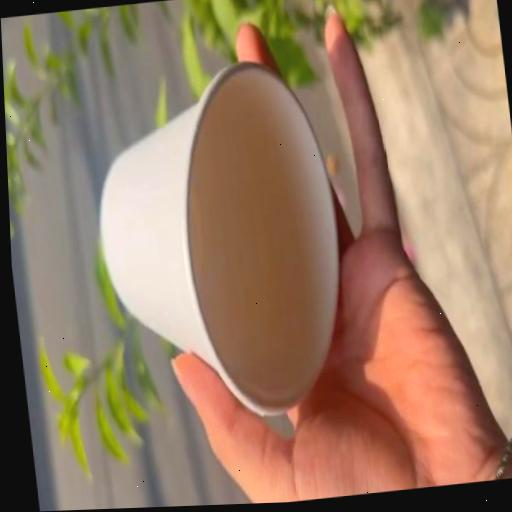ly_giay: (100, 62, 339, 414)
